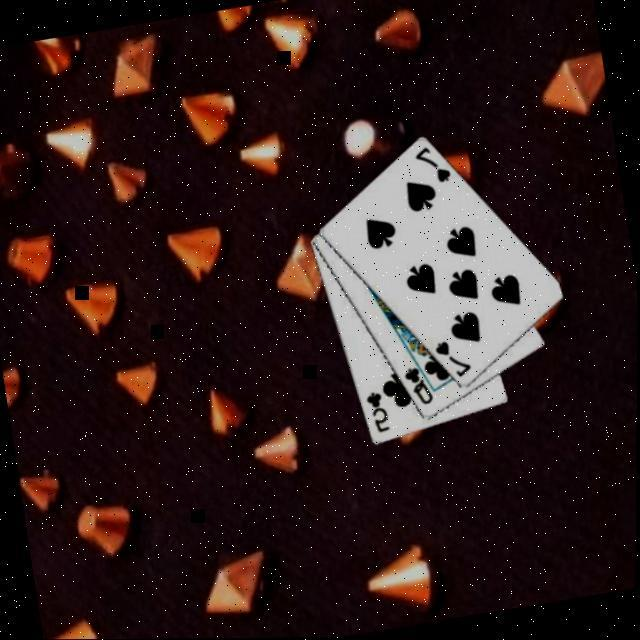5C: (361, 388, 392, 438)
7S: (429, 335, 474, 384), (409, 141, 453, 189)
QC: (398, 362, 436, 411)
